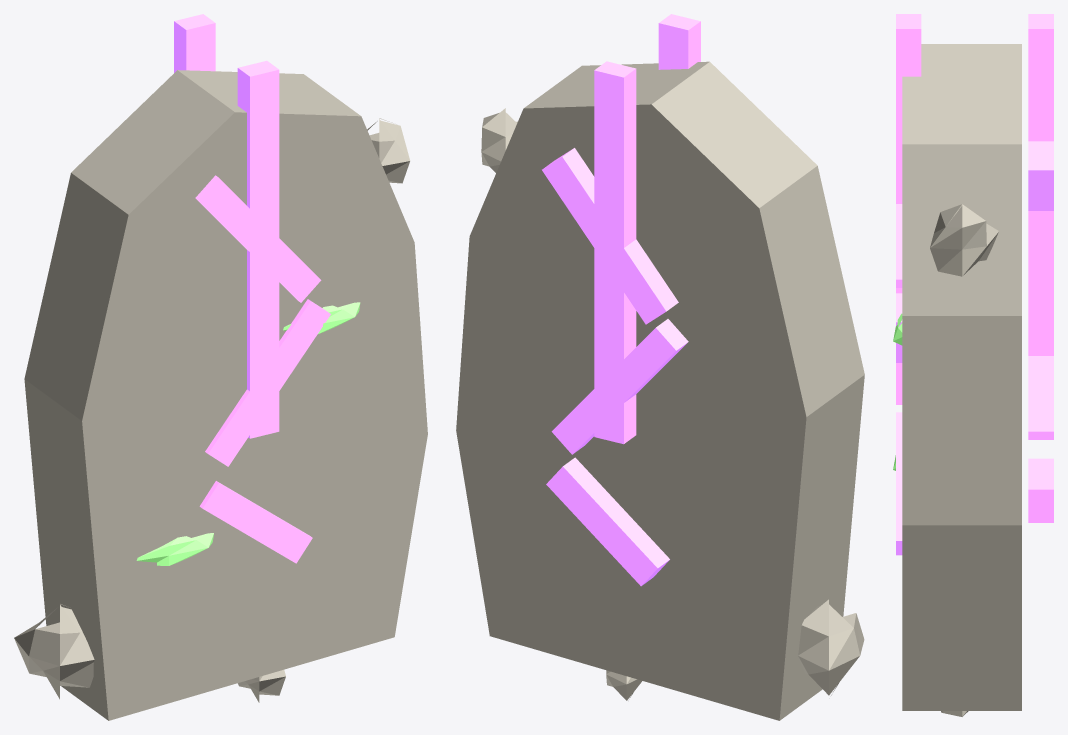
File: pickups-and-collectibles-rune-stone-8fbea2b4__19927.glb
3 renders of one model, left to right at view 1: azimuth 30°, elevation 25°; view 2: azimuth 150°, elevation 25°; view 3: azimuth 270°, elevation 25°, orthographic. The views are drawn at different scales.
Parts seen in each view (by area): view 1: body/bone, body/arcane, body/verdant; view 2: body/bone, body/arcane; view 3: body/bone, body/arcane.
Boxes of the visible parts, x1,y1,x2,y2 form: body/bone: (14, 70, 427, 720); body/arcane: (174, 14, 330, 563); body/verdant: (136, 302, 360, 565); body/bone: (456, 61, 864, 720); body/arcane: (542, 14, 700, 586); body/bone: (902, 44, 1021, 716); body/arcane: (896, 14, 1053, 555).
Size of the model in its own units: 0.2804 by 0.4742 by 0.1008.
